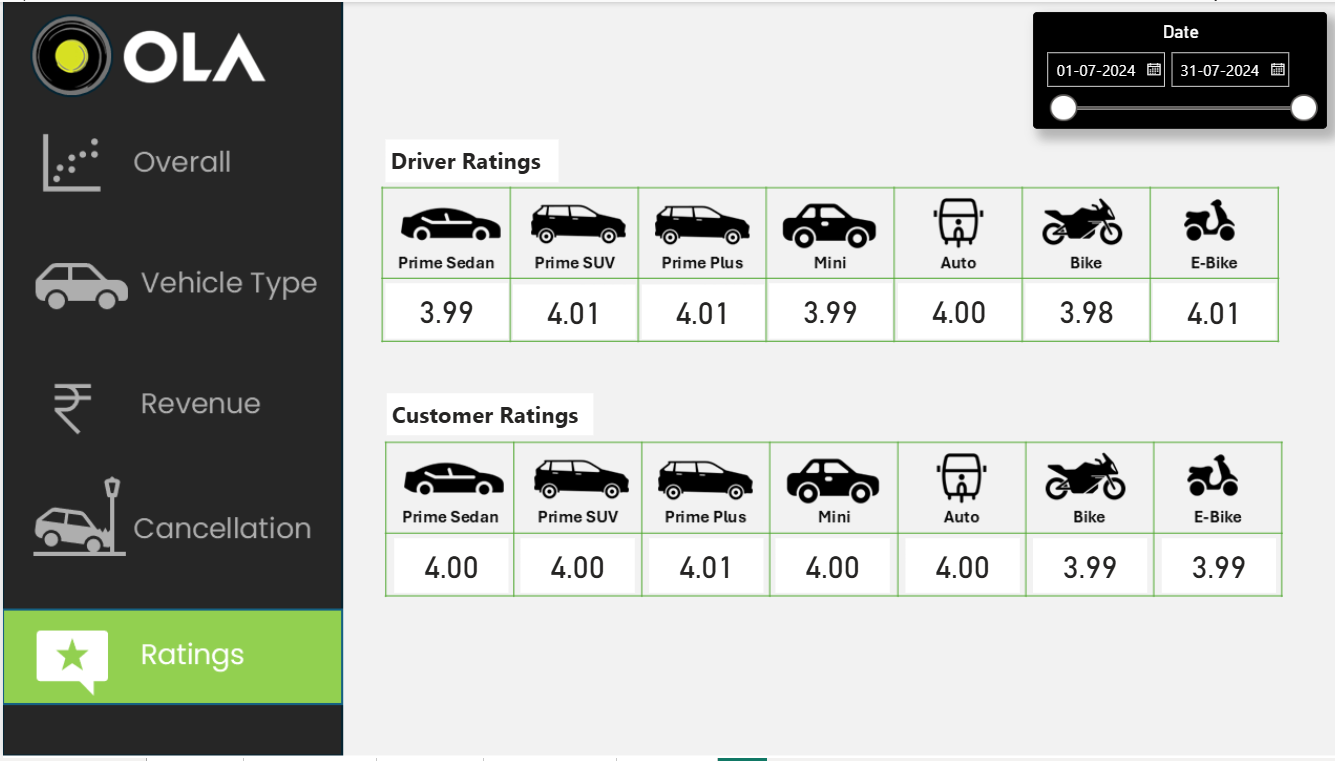

The dashboard page shown, as its layout file describes it:
{"tool":"powerbi","page":{"name":"Ratings","canvas":[1280,720],"ordinal":4},"visuals":[{"type":"actionButton","box":[0,576.2,323.8,91.7],"z":0},{"type":"card","fields":{"Values":["Avg(July.Driver_Ratings)"]},"box":[364.2,267.5,116.7,52.5],"z":1000},{"type":"card","fields":{"Values":["Avg(July.Driver_Ratings)"]},"box":[485.7,268.6,116.4,52.1],"z":2000},{"type":"card","fields":{"Values":["Avg(July.Driver_Ratings)"]},"box":[607.9,268.6,116.4,52.1],"z":3000},{"type":"card","fields":{"Values":["Avg(July.Driver_Ratings)"]},"box":[729.3,267.9,116.4,52.9],"z":4000},{"type":"card","fields":{"Values":["Avg(July.Driver_Ratings)"]},"box":[852.1,267.9,116.4,52.9],"z":5000},{"type":"card","fields":{"Values":["Avg(July.Driver_Ratings)"]},"box":[973.6,267.9,116.4,52.9],"z":6000},{"type":"card","fields":{"Values":["Avg(July.Driver_Ratings)"]},"box":[1095.7,267.9,116.4,53.6],"z":7000},{"type":"textbox","box":[364,131,165,41],"z":8000},{"type":"textbox","box":[365,373,197,40],"z":9000},{"type":"card","fields":{"Values":["Avg(July.Customer_Rating)"]},"box":[373,511,109,52],"z":10000},{"type":"card","fields":{"Values":["Avg(July.Customer_Rating)"]},"box":[493,511,109,52],"z":11000},{"type":"card","fields":{"Values":["Avg(July.Customer_Rating)"]},"box":[615,511,109,52],"z":12000},{"type":"card","fields":{"Values":["Avg(July.Customer_Rating)"]},"box":[736,511,109,52],"z":13000},{"type":"card","fields":{"Values":["Avg(July.Customer_Rating)"]},"box":[859,511,109,52],"z":14000},{"type":"card","fields":{"Values":["Avg(July.Customer_Rating)"]},"box":[981,511,109,52],"z":15000},{"type":"card","fields":{"Values":["Avg(July.Customer_Rating)"]},"box":[1103,511,109,52],"z":16000},{"type":"slicer","title":"Date","fields":{"Values":["July.Date"]},"box":[981.2,10,280,111.2],"z":17000}]}

Visuals, with their boxes on the page's 1280x720 design canvas (x1, y1, x2, y2). These are canvas units, not pixel positions in the 1335x761 screenshot, which may show the page scaled, cropped or inside an application window:
actionButton: locate(0, 576, 324, 668)
card - Avg(July.Driver_Ratings): locate(364, 268, 481, 320)
card - Avg(July.Driver_Ratings): locate(486, 269, 602, 321)
card - Avg(July.Driver_Ratings): locate(608, 269, 724, 321)
card - Avg(July.Driver_Ratings): locate(729, 268, 846, 321)
card - Avg(July.Driver_Ratings): locate(852, 268, 968, 321)
card - Avg(July.Driver_Ratings): locate(974, 268, 1090, 321)
card - Avg(July.Driver_Ratings): locate(1096, 268, 1212, 322)
textbox: locate(364, 131, 529, 172)
textbox: locate(365, 373, 562, 413)
card - Avg(July.Customer_Rating): locate(373, 511, 482, 563)
card - Avg(July.Customer_Rating): locate(493, 511, 602, 563)
card - Avg(July.Customer_Rating): locate(615, 511, 724, 563)
card - Avg(July.Customer_Rating): locate(736, 511, 845, 563)
card - Avg(July.Customer_Rating): locate(859, 511, 968, 563)
card - Avg(July.Customer_Rating): locate(981, 511, 1090, 563)
card - Avg(July.Customer_Rating): locate(1103, 511, 1212, 563)
"Date" slicer: locate(981, 10, 1261, 121)
